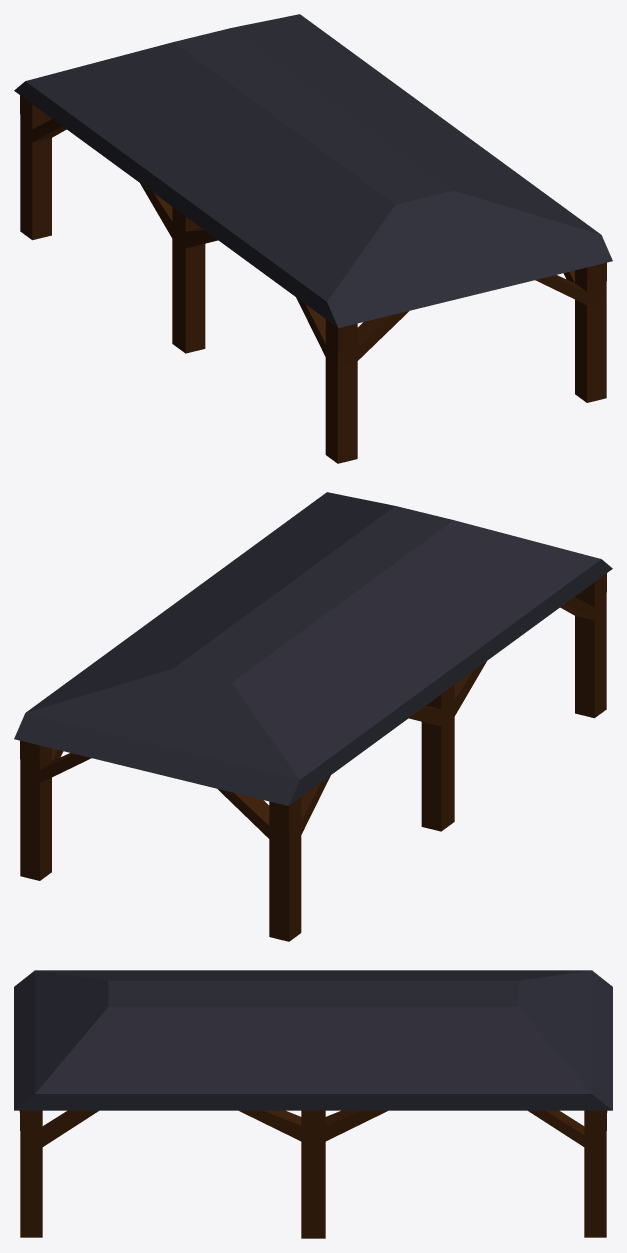
File: halle.fbx
3 renders of one model, top to bottom at view 1: azimuth 30°, elevation 25°; view 2: azimuth 150°, elevation 25°; view 3: azimuth 270°, elevation 25°, orthographic. The views are drawn at different scales.
Parts seen in each view (by area): view 1: pCube13; view 2: pCube13; view 3: pCube13.
Boxes of the visible parts, x1=… form: pCube13: x1=14, y1=14, x2=612, y2=463; pCube13: x1=14, y1=492, x2=612, y2=941; pCube13: x1=14, y1=970, x2=612, y2=1238.
Bounding box in the file's own units: 10.99 × 7.63 × 22.48.
